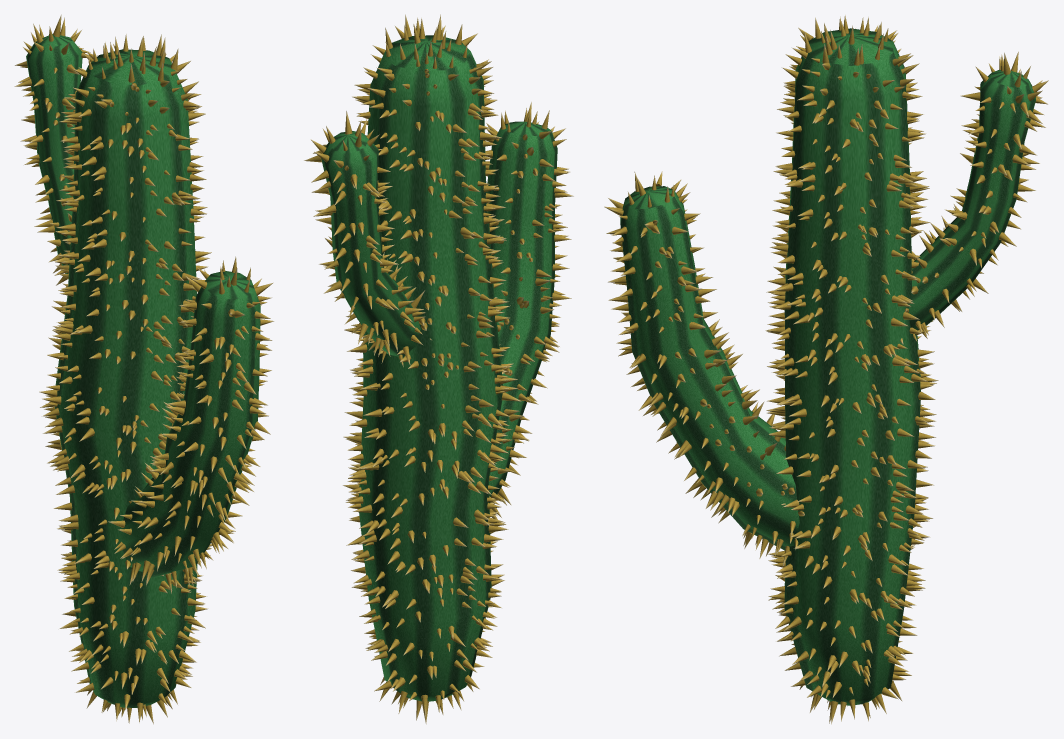
The model's file is cactus_1.glb.
3 views of the same model, side by side, from view 1: azimuth 30°, elevation 25°; view 2: azimuth 150°, elevation 25°; view 3: azimuth 270°, elevation 25° (orthographic). The views are drawn at different scales.
Visible parts, largest first — view 1: cactus 2; view 2: cactus 2; view 3: cactus 2.
Boxes of the visible parts, x1,y1,x2,y2 form: cactus 2: (14, 14, 274, 724); cactus 2: (304, 14, 573, 724); cactus 2: (604, 15, 1048, 724).
Bounding box in the file's own units: 0.7827 × 3.32 × 1.92.
Materials: 1 (1 with a texture image).
